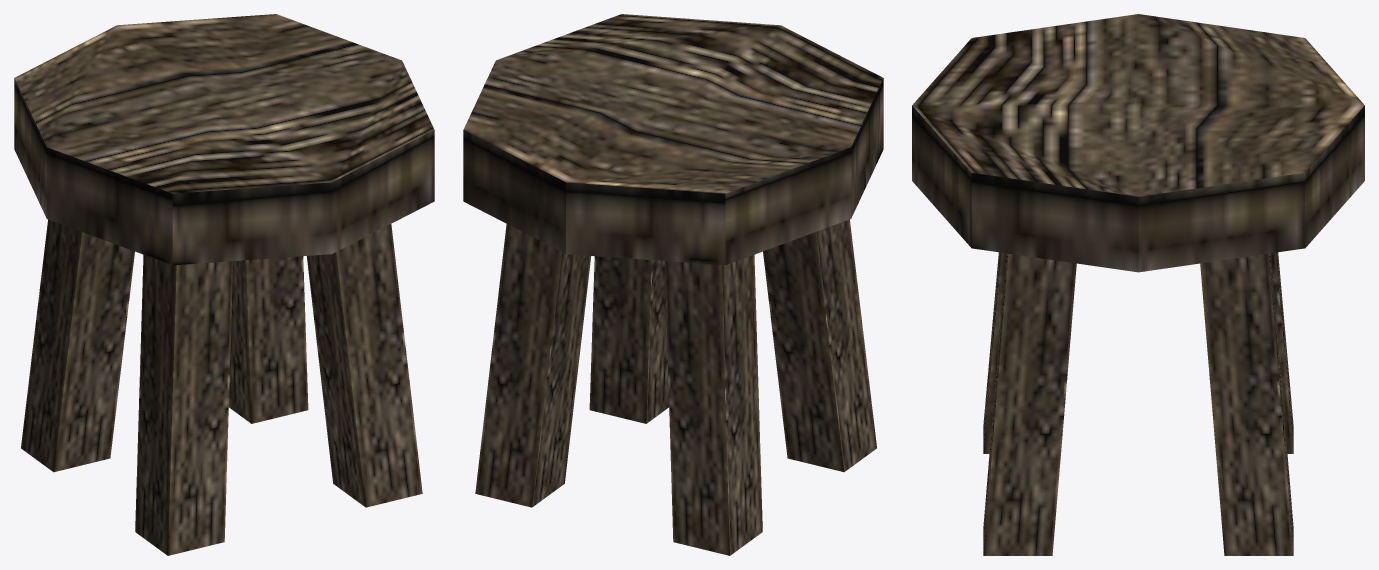
Rendered from Bench.fbx.
3 views of the same model, side by side, from view 1: azimuth 30°, elevation 25°; view 2: azimuth 150°, elevation 25°; view 3: azimuth 270°, elevation 25° (orthographic). The views are drawn at different scales.
Visible parts, largest first — view 1: Bench; view 2: Bench; view 3: Bench.
Boxes of the visible parts, x1,y1,x2,y2 form: Bench: (14, 14, 434, 555); Bench: (463, 14, 883, 555); Bench: (912, 14, 1364, 555).
Size of the model in its own units: 0.4165 by 0.4106 by 0.436.
